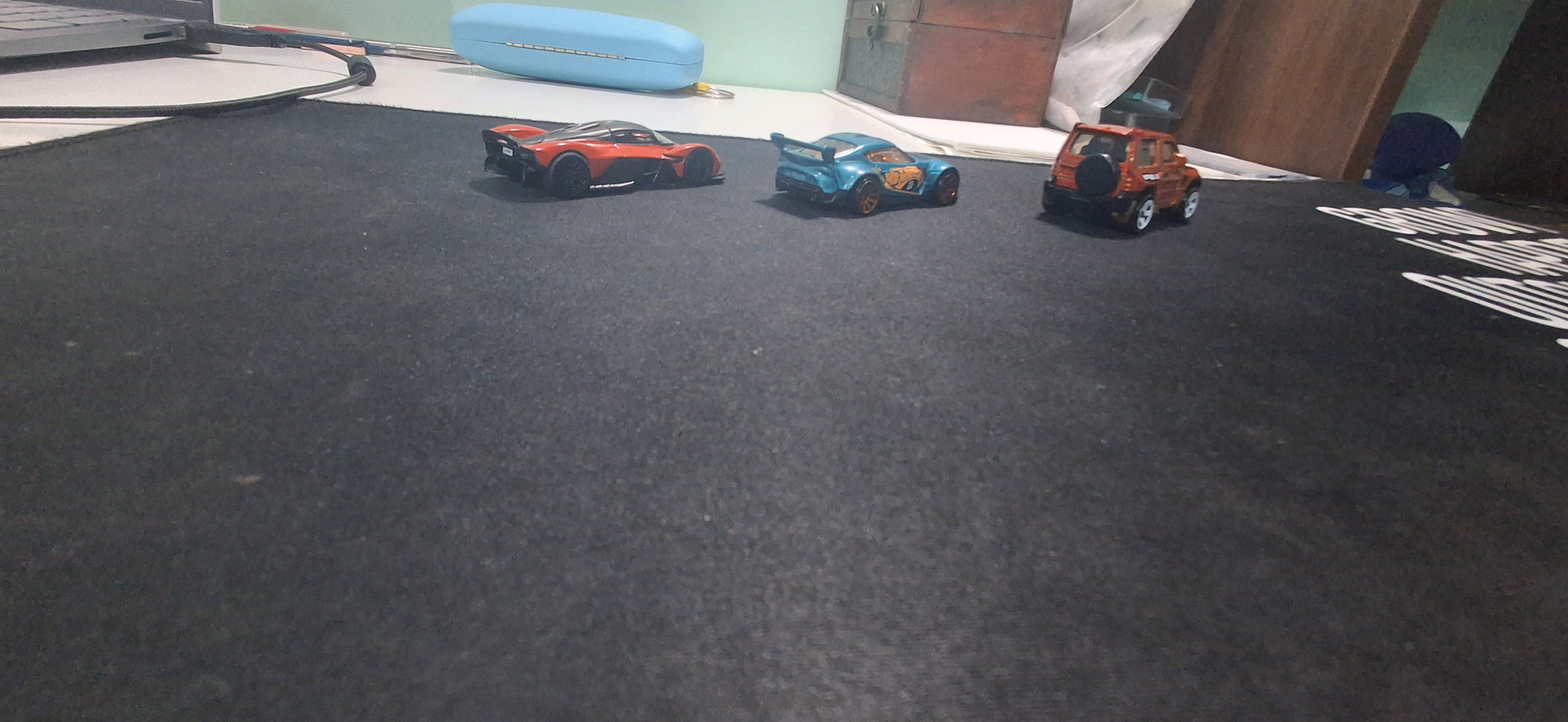Aston_Martin_Valkyrie: (461, 122, 732, 209)
Mitsubishi_Pajero_Evolution: (1030, 109, 1247, 254)
Toyota_GR_Supra: (743, 118, 988, 233)
